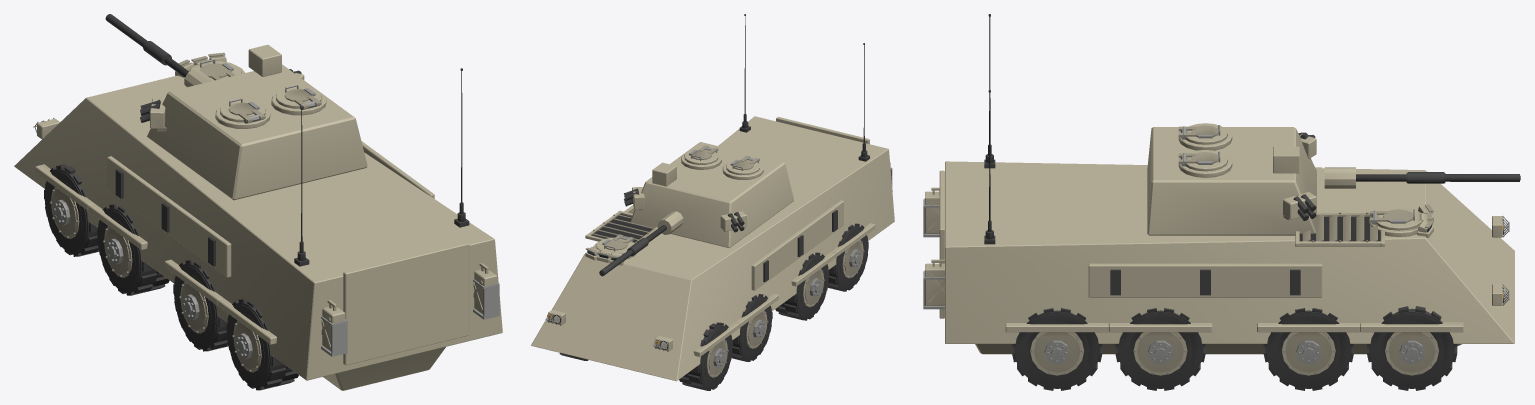
File: usa_ifv_lav25.glb
3 renders of one model, left to right at view 1: azimuth 30°, elevation 25°; view 2: azimuth 150°, elevation 25°; view 3: azimuth 270°, elevation 25°, orthographic. The views are drawn at different scales.
Parts seen in each view (by area): view 1: body, turret, wheel_6, wheel_2, wheel_0, wheel_4, barrel; view 2: body, turret, wheel_0, wheel_4, wheel_2, wheel_6, barrel; view 3: body, turret, wheel_1, wheel_5, wheel_7, wheel_3, barrel.
Boxes of the visible parts, x1=… form: body: x1=14, y1=52, x2=502, y2=390; turret: x1=140, y1=44, x2=367, y2=200; wheel_6: x1=226, y1=299, x2=298, y2=390; wheel_2: x1=97, y1=204, x2=169, y2=295; wheel_0: x1=44, y1=164, x2=98, y2=256; wheel_4: x1=173, y1=260, x2=228, y2=351; barrel: x1=105, y1=14, x2=213, y2=87; body: x1=531, y1=14, x2=894, y2=381; turret: x1=624, y1=142, x2=793, y2=248; wheel_0: x1=679, y1=322, x2=732, y2=390; wheel_4: x1=775, y1=252, x2=829, y2=320; wheel_2: x1=731, y1=294, x2=772, y2=361; wheel_6: x1=828, y1=223, x2=868, y2=291; barrel: x1=599, y1=211, x2=683, y2=276; body: x1=923, y1=14, x2=1514, y2=354; turret: x1=1147, y1=123, x2=1316, y2=235; wheel_1: x1=1367, y1=306, x2=1457, y2=390; wheel_5: x1=1115, y1=308, x2=1205, y2=390; wheel_7: x1=1012, y1=308, x2=1102, y2=390; wheel_3: x1=1263, y1=308, x2=1353, y2=390; barrel: x1=1324, y1=167, x2=1520, y2=188.
Size of the model in its own units: 2.66 by 3.59 by 6.65.
